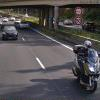Motorcycle: (61, 36, 100, 97)
